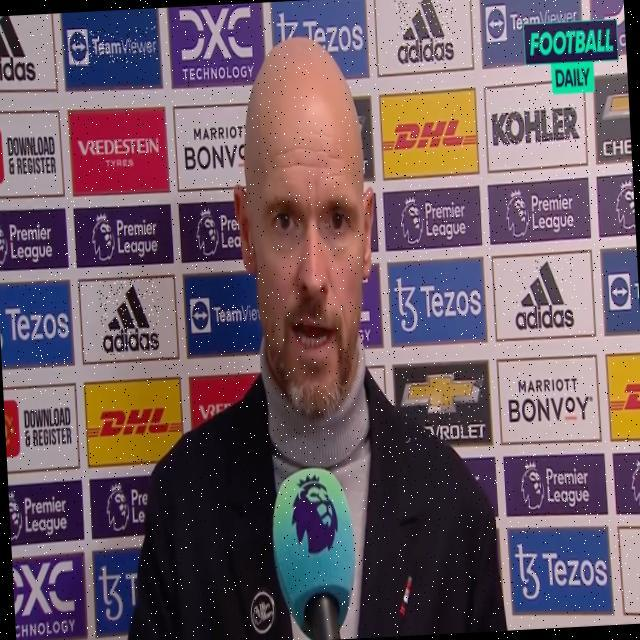Adidas: (512, 256, 577, 333), (99, 279, 162, 357), (394, 0, 456, 66), (67, 26, 159, 67)
Chevrolet: (402, 369, 487, 445)
Kohler: (491, 104, 581, 147)
